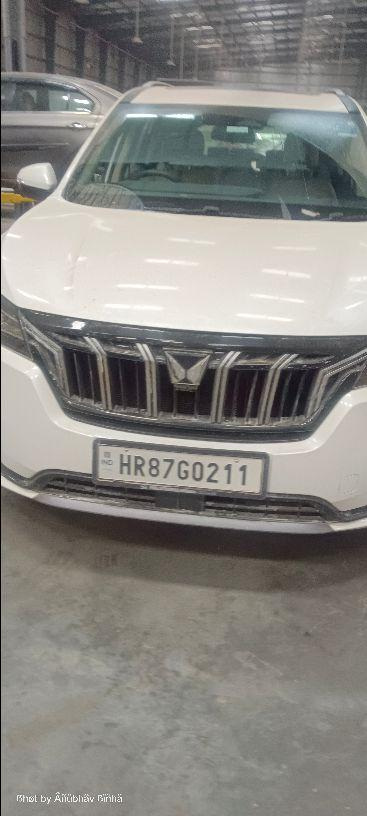license_plate: (91, 437, 269, 498)
